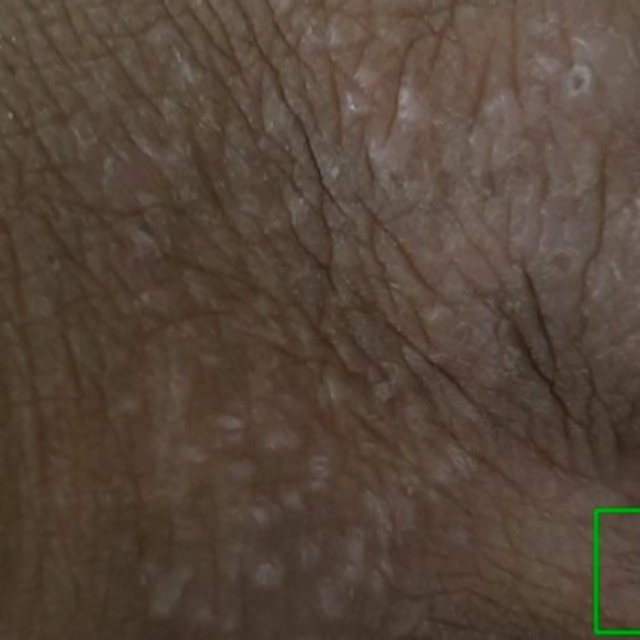Eczema: (596, 510, 639, 632)
